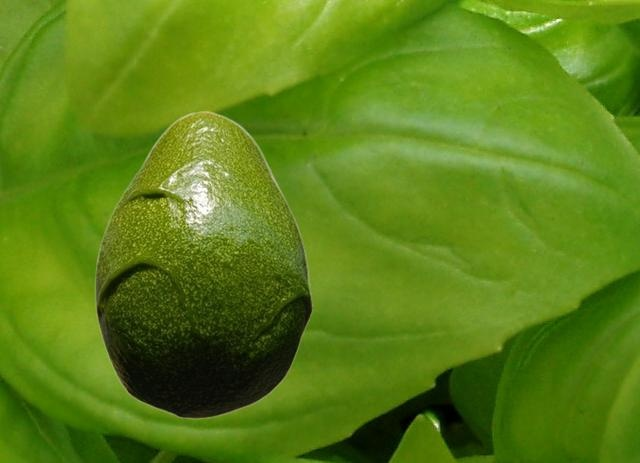avocado: (94, 110, 312, 418)
